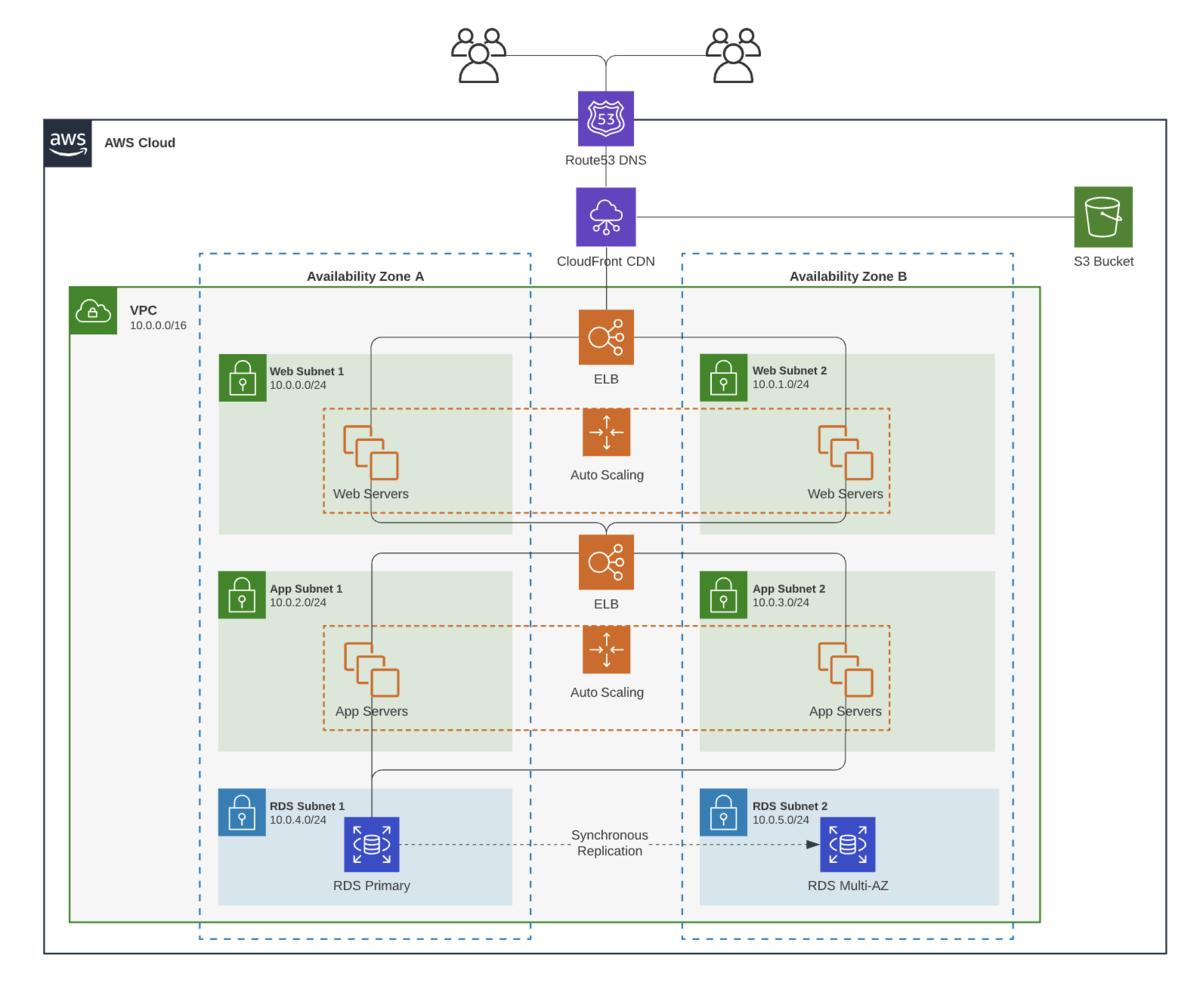Auto Scaling: (582, 624, 632, 676), (581, 408, 632, 458)
Cloudfront: (572, 188, 640, 245)
EC2: (339, 417, 409, 488), (336, 634, 409, 702), (808, 418, 881, 485), (811, 635, 879, 700)
ELB: (579, 306, 636, 370), (579, 534, 635, 591)
Private Subnet: (212, 782, 271, 841), (698, 782, 754, 838)
Public Subnet: (211, 350, 273, 409), (211, 564, 271, 624), (695, 565, 754, 623), (696, 348, 751, 403)
RDS: (346, 818, 401, 873), (822, 816, 873, 871)
Route53: (579, 88, 635, 147)
S3: (1076, 186, 1132, 245)
Users: (701, 24, 774, 92), (446, 21, 512, 89)
aws: (42, 118, 93, 167)
